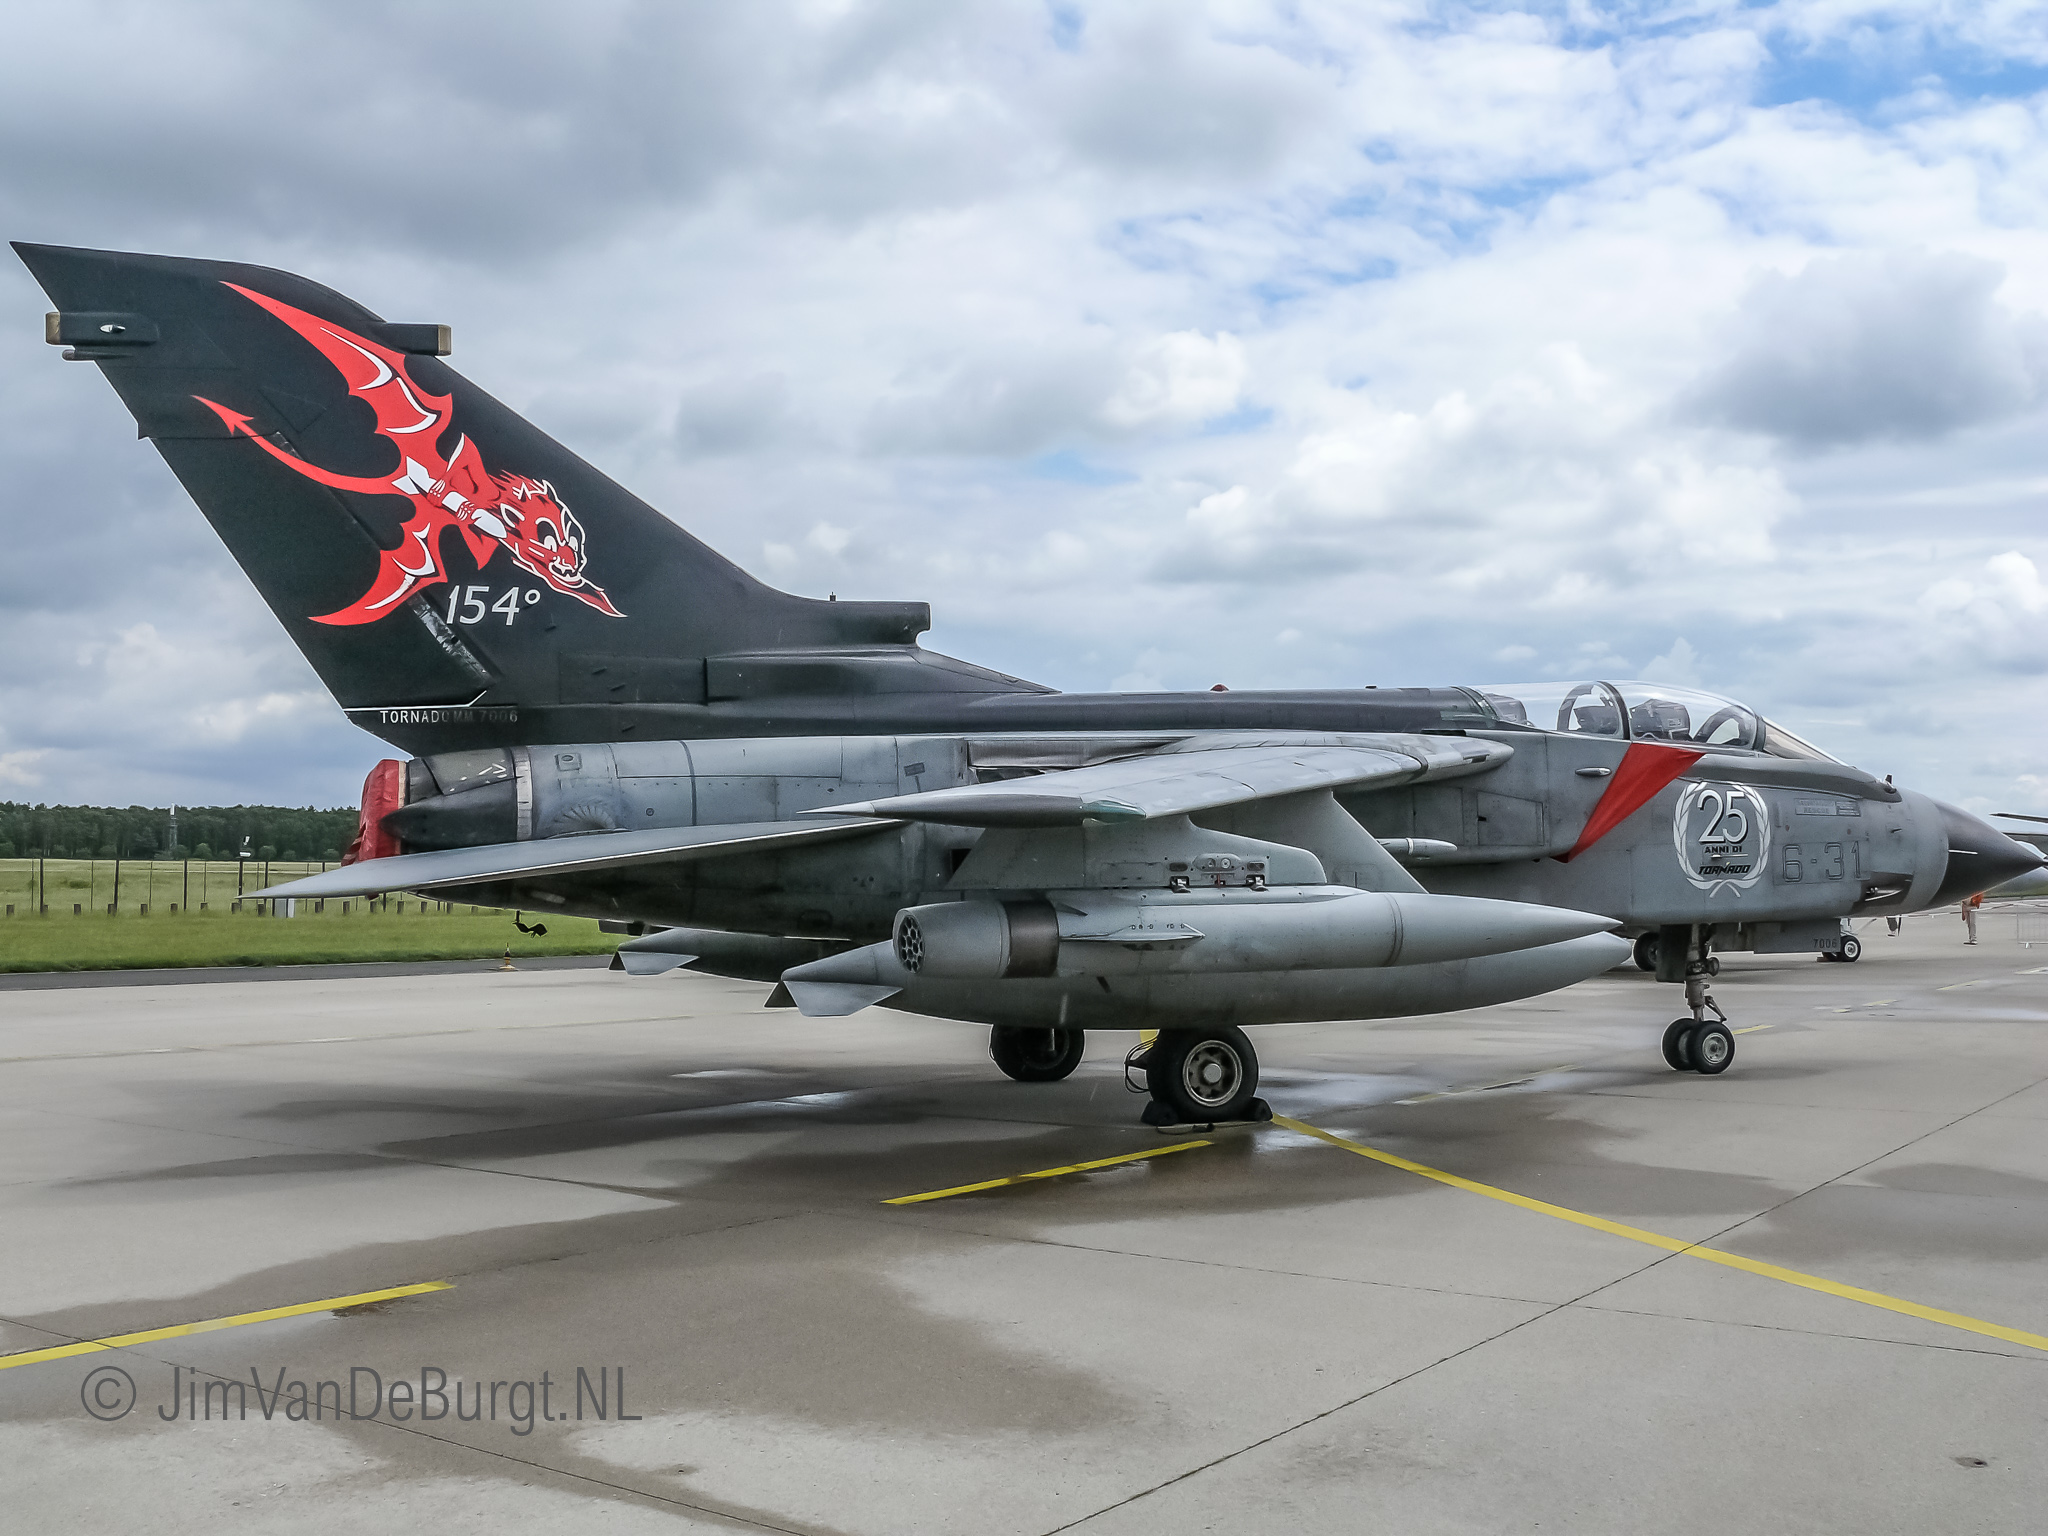Tornado: (6, 240, 2048, 1121)
